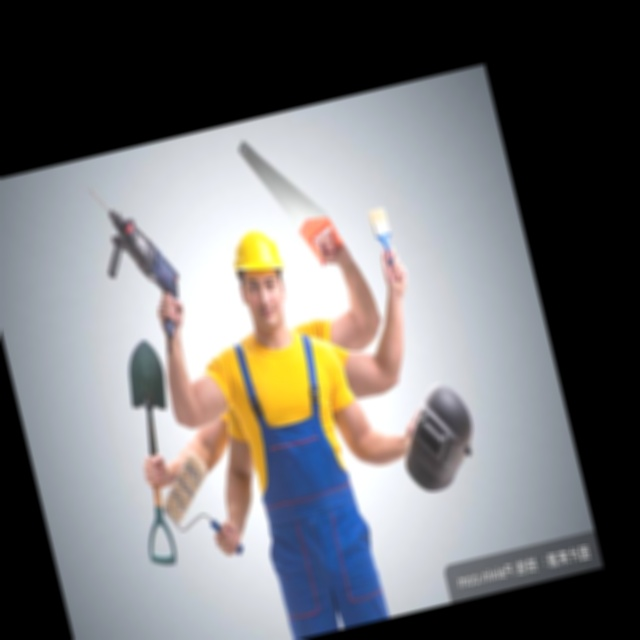Con_Casco: (226, 222, 296, 332)
Sin_Chaleco: (220, 321, 365, 548)
